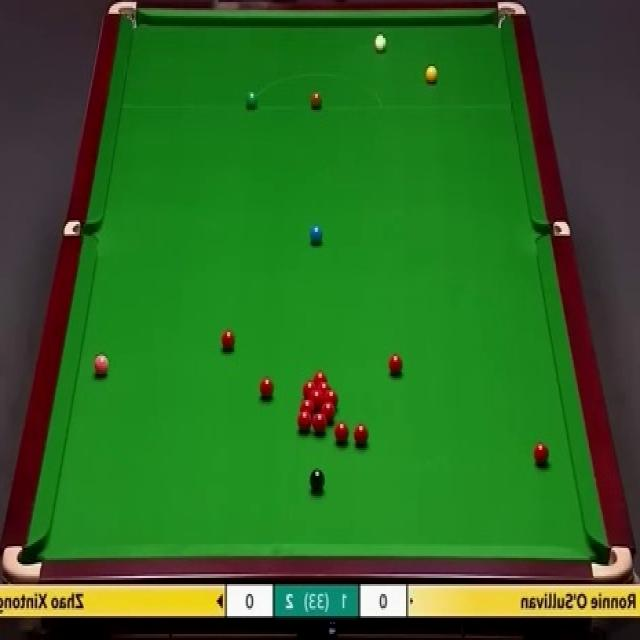black-ball: (309, 466, 325, 496)
blue-ball: (308, 224, 324, 246)
brown-ball: (310, 90, 323, 110)
green-ball: (245, 90, 258, 109)
pink-ball: (93, 352, 109, 378)
red-ball: (333, 420, 350, 448), (387, 352, 404, 379), (533, 442, 550, 468), (354, 422, 370, 446), (297, 410, 312, 435), (259, 376, 274, 400), (220, 328, 235, 352), (321, 401, 336, 422), (312, 413, 326, 435), (302, 380, 317, 399), (310, 388, 325, 406), (324, 388, 338, 406), (300, 401, 314, 414), (312, 371, 327, 382), (316, 381, 332, 391)
white-ball: (374, 30, 388, 55)
yellow-ball: (424, 65, 437, 86)
